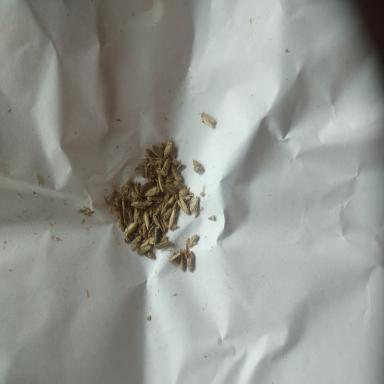pbw: (197, 110, 215, 128), (176, 198, 190, 216), (151, 213, 164, 232), (124, 221, 138, 237), (168, 208, 178, 230), (160, 156, 171, 176), (189, 196, 199, 217), (168, 249, 183, 263), (170, 163, 182, 180), (136, 241, 150, 255), (129, 235, 142, 250), (132, 160, 148, 172), (162, 139, 172, 158), (188, 249, 196, 272), (140, 179, 154, 192), (163, 182, 177, 195), (179, 249, 187, 271), (144, 186, 161, 196), (151, 144, 163, 158), (146, 148, 158, 162), (154, 241, 172, 250), (107, 197, 122, 207), (188, 233, 198, 248), (133, 185, 144, 198), (143, 248, 156, 259), (116, 215, 124, 232), (130, 201, 147, 209), (166, 195, 176, 208), (126, 180, 136, 193), (143, 211, 150, 229), (132, 191, 143, 202), (178, 187, 190, 197), (155, 167, 167, 177), (173, 180, 186, 189), (123, 208, 128, 231), (142, 220, 148, 239), (158, 174, 164, 193), (158, 219, 166, 233), (142, 236, 154, 245), (124, 234, 136, 243), (160, 201, 167, 216), (148, 224, 156, 237), (151, 207, 162, 216), (147, 196, 163, 202), (132, 207, 138, 222), (126, 206, 132, 221), (136, 218, 142, 232), (143, 199, 153, 207), (109, 207, 119, 215), (138, 166, 144, 178), (159, 234, 167, 242), (184, 244, 188, 260), (163, 214, 167, 228), (176, 164, 184, 171), (122, 197, 126, 210), (150, 161, 160, 166), (150, 172, 157, 178)
